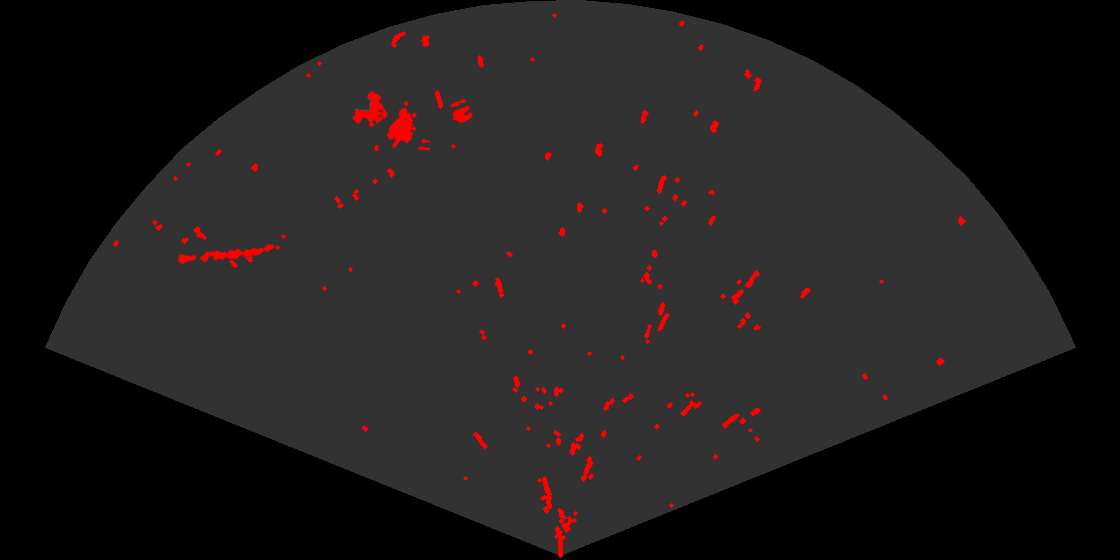ball: (449, 97, 474, 125)
cage: (351, 90, 430, 151)
chain: (176, 242, 276, 267)
